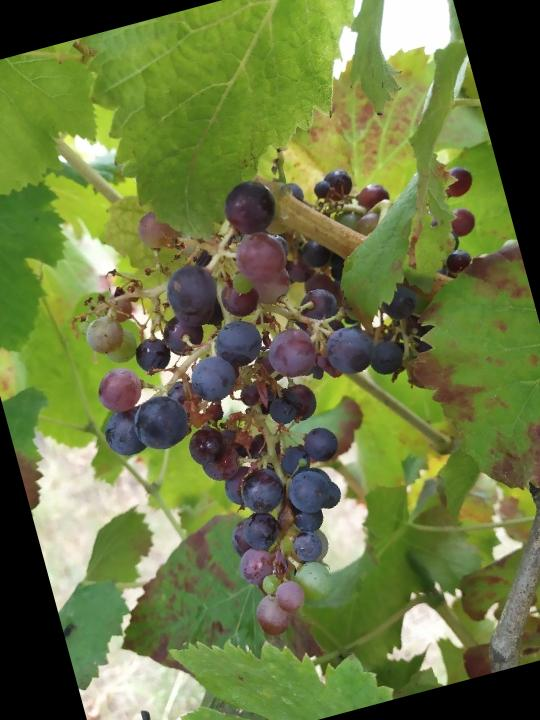grape: (38, 125, 540, 673)
